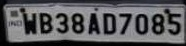character: (22, 12, 38, 35), (70, 11, 85, 34), (167, 12, 182, 35), (38, 12, 53, 34), (134, 13, 149, 35), (102, 12, 116, 35), (55, 12, 69, 34), (118, 12, 132, 34), (151, 13, 165, 35), (87, 12, 100, 34)
